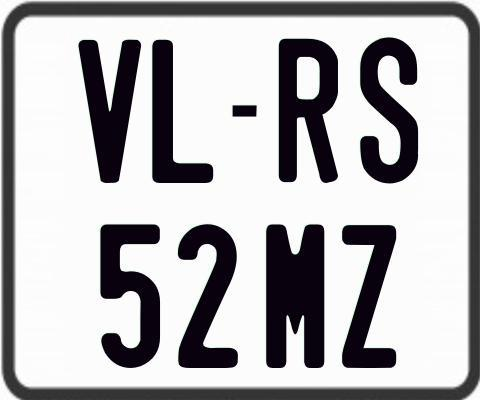2: (178, 224, 238, 368)
5: (97, 223, 163, 373)
L: (149, 39, 215, 185)
M: (263, 224, 324, 369)
R: (278, 37, 337, 186)
S: (360, 35, 419, 184)
V: (77, 37, 140, 180)
Z: (339, 224, 396, 367)
